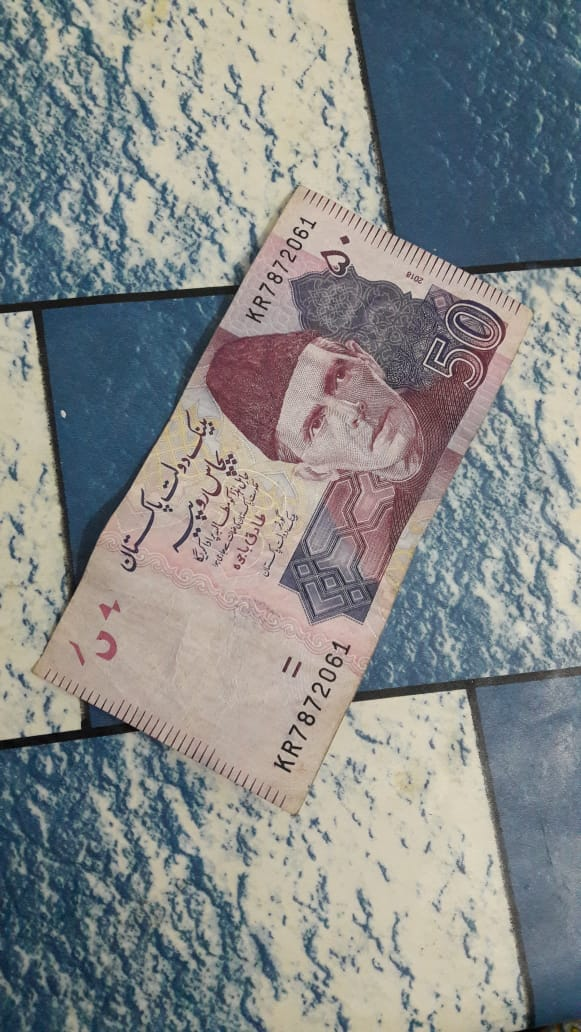50 rupee: (47, 171, 517, 852)
